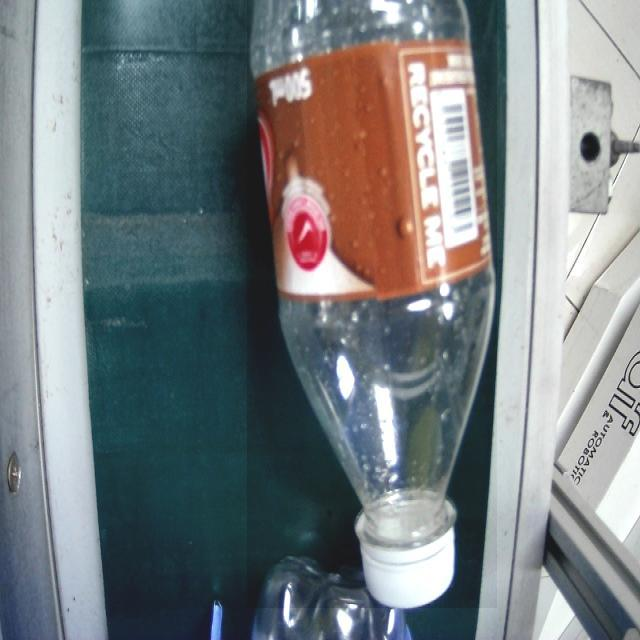Pet_Bottle: (247, 0, 497, 608)
